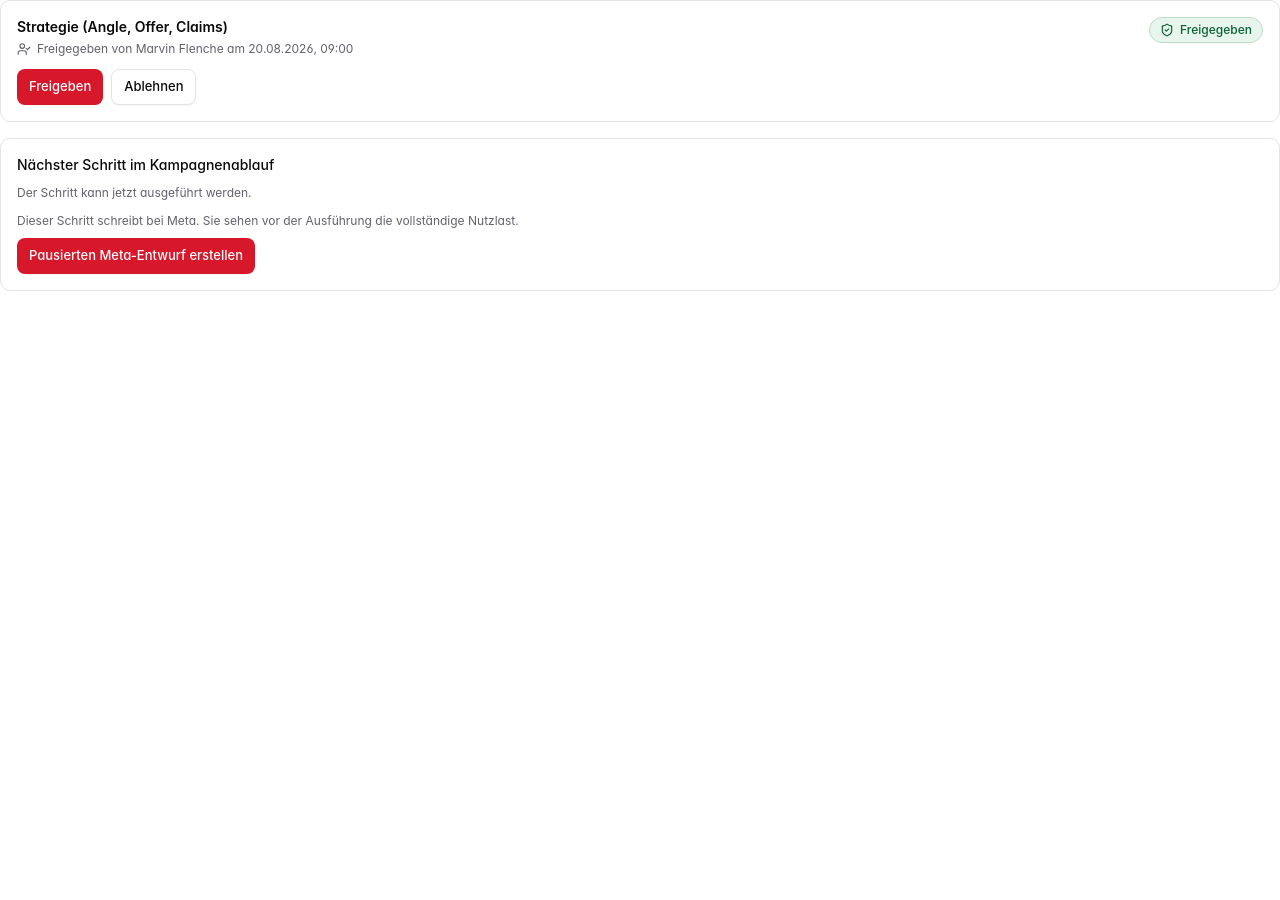
Test: ApprovalPanel — content-hash invalidation › renders the dry run of that step as a dry run
Step 1. Click the button "Pausierten Meta-Entwurf erstellen" → coordinates (136, 256), box 17,238 -> 255,274
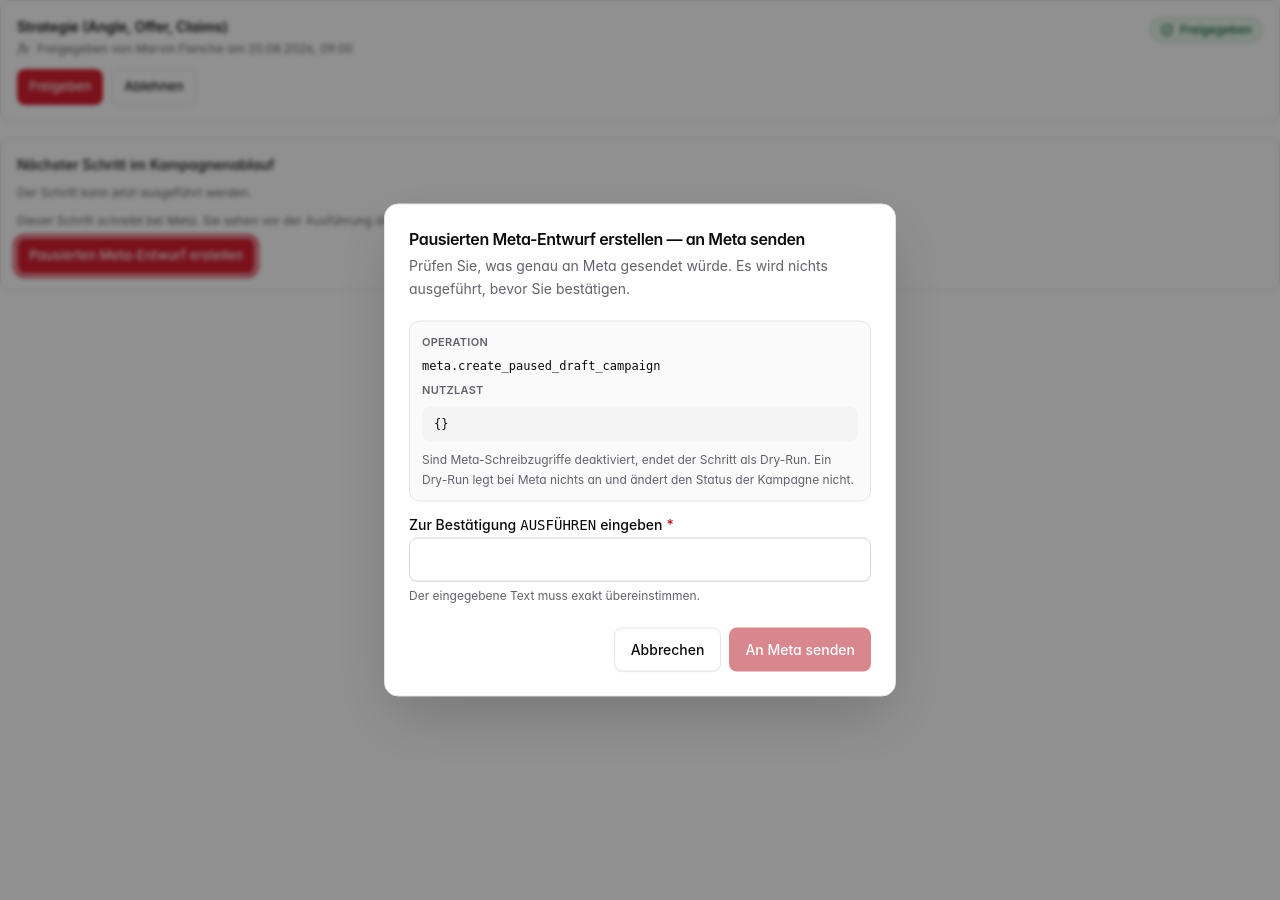
expect the dialog is shown: met, box 384,204 -> 896,696
Step 2. Type "AUSFÜHREN" into the field → coordinates (640, 560), box 409,538 -> 871,582
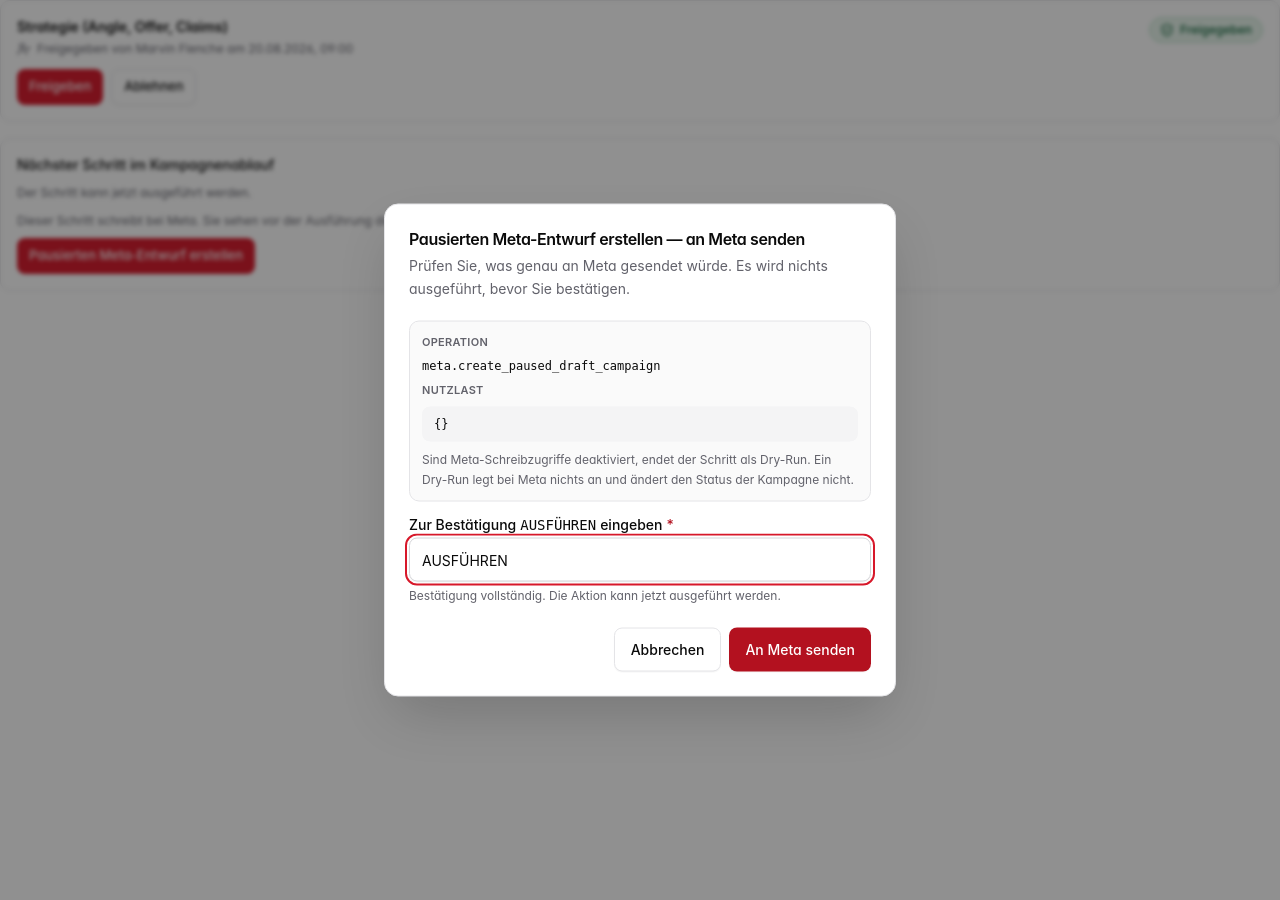
Step 3. Click the button "An Meta senden" → coordinates (800, 650), box 729,628 -> 871,672
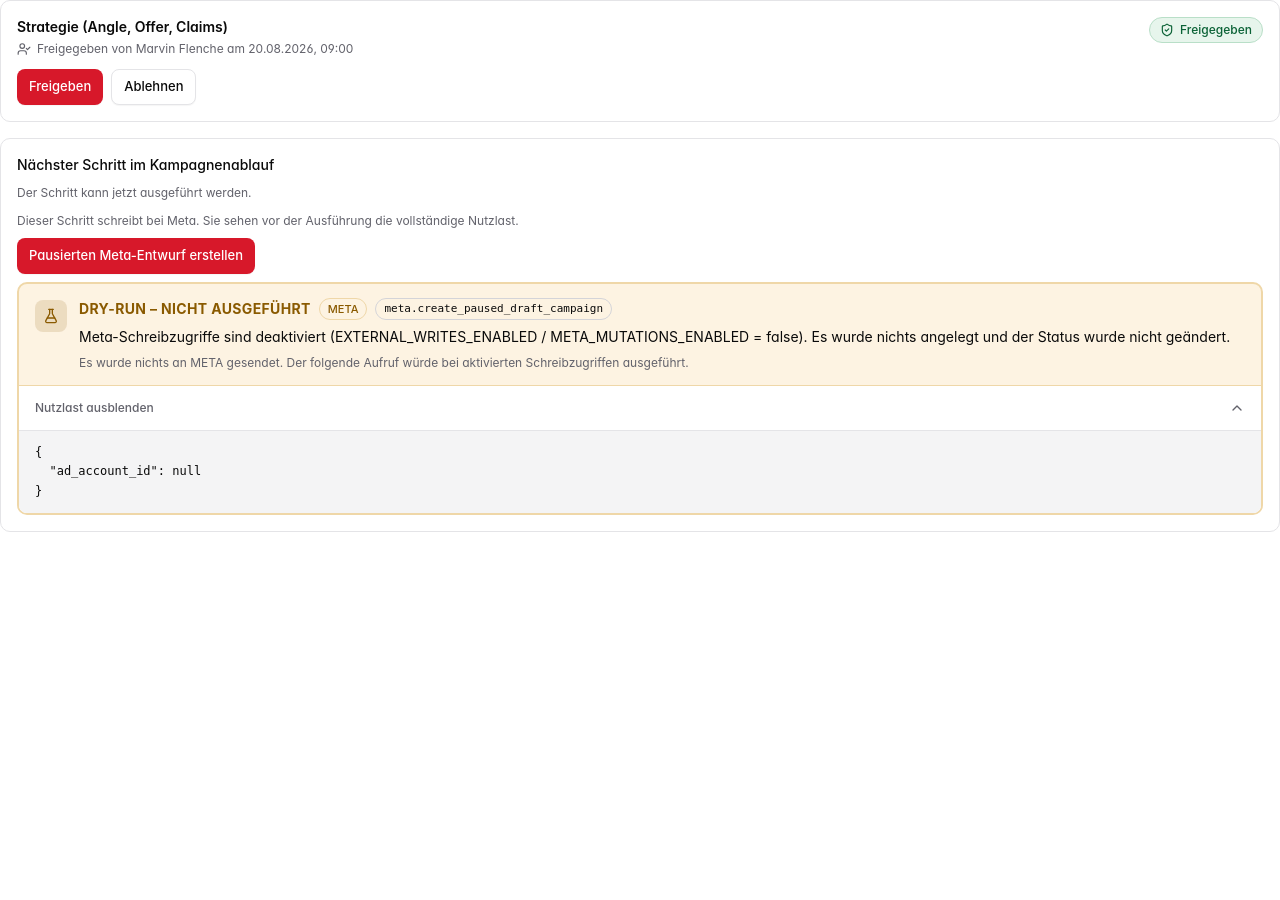
expect the message is shown: met, box 17,282 -> 1263,515
expect the text "Dry-Run – nicht ausgeführt" is shown: met, box 79,299 -> 311,319
expect the text "Status wurde nicht geändert" is shown: met, box 79,328 -> 1230,345
